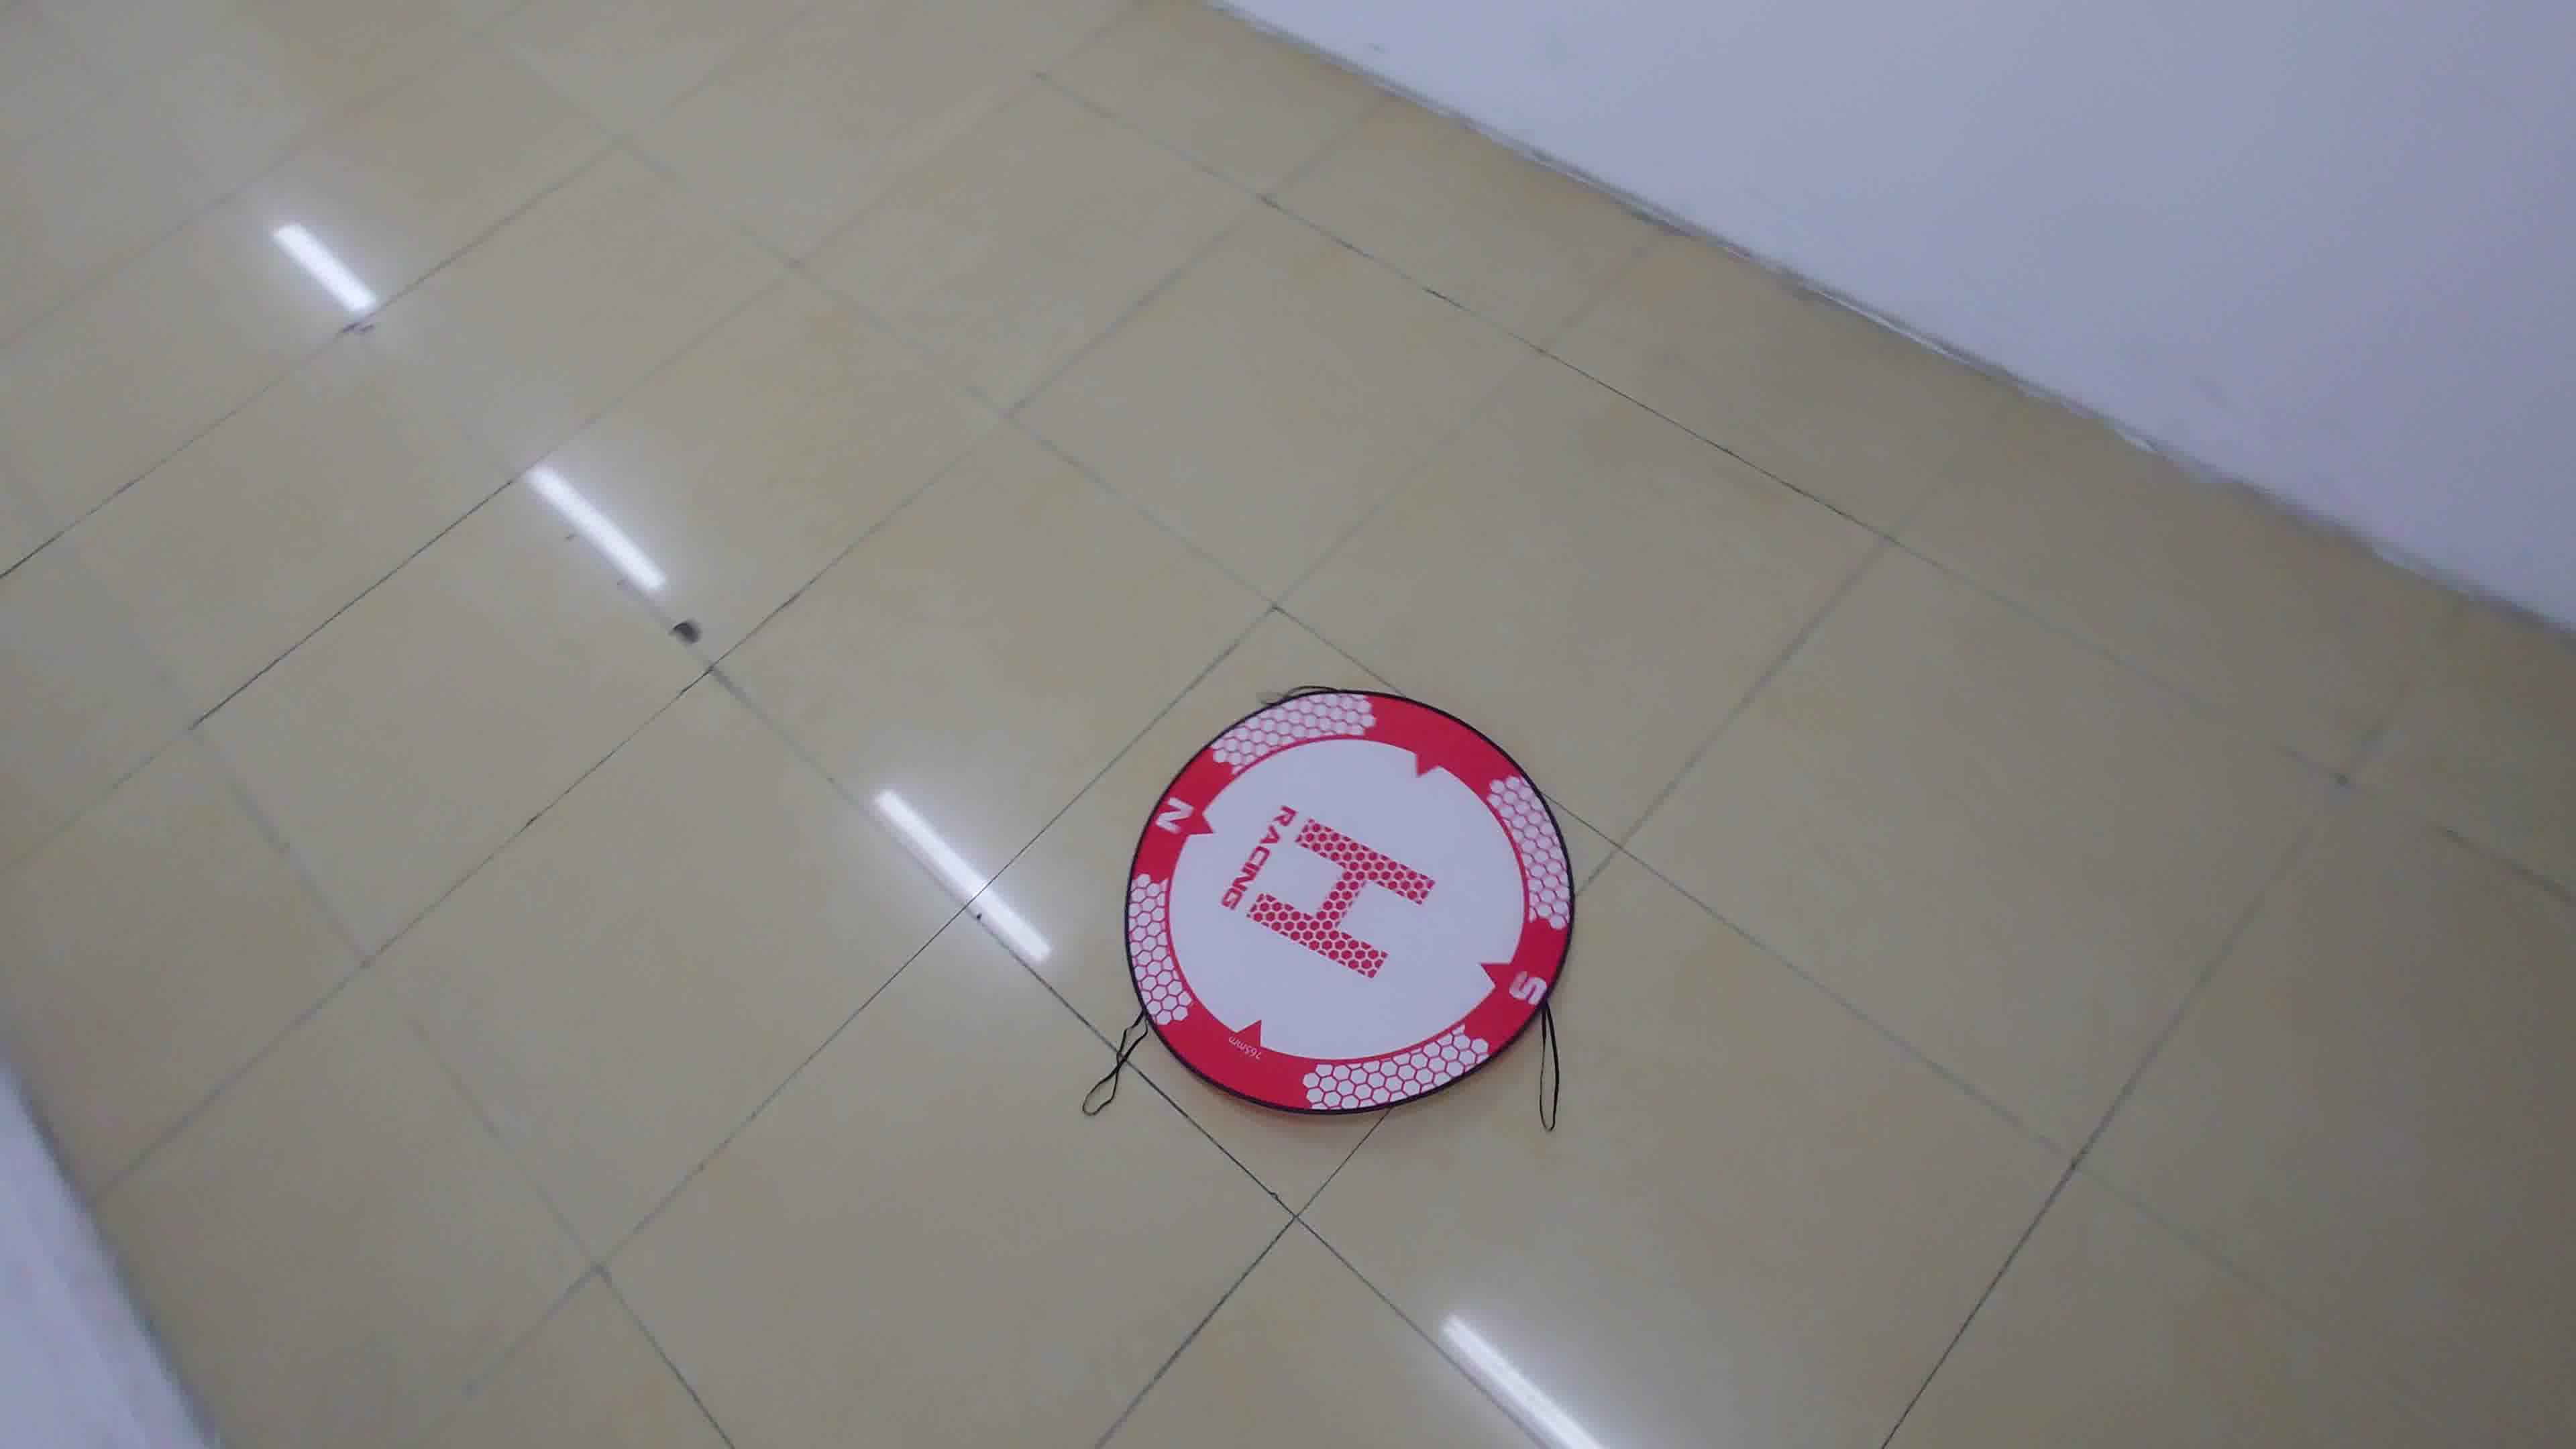H: (1244, 816, 1435, 978)
